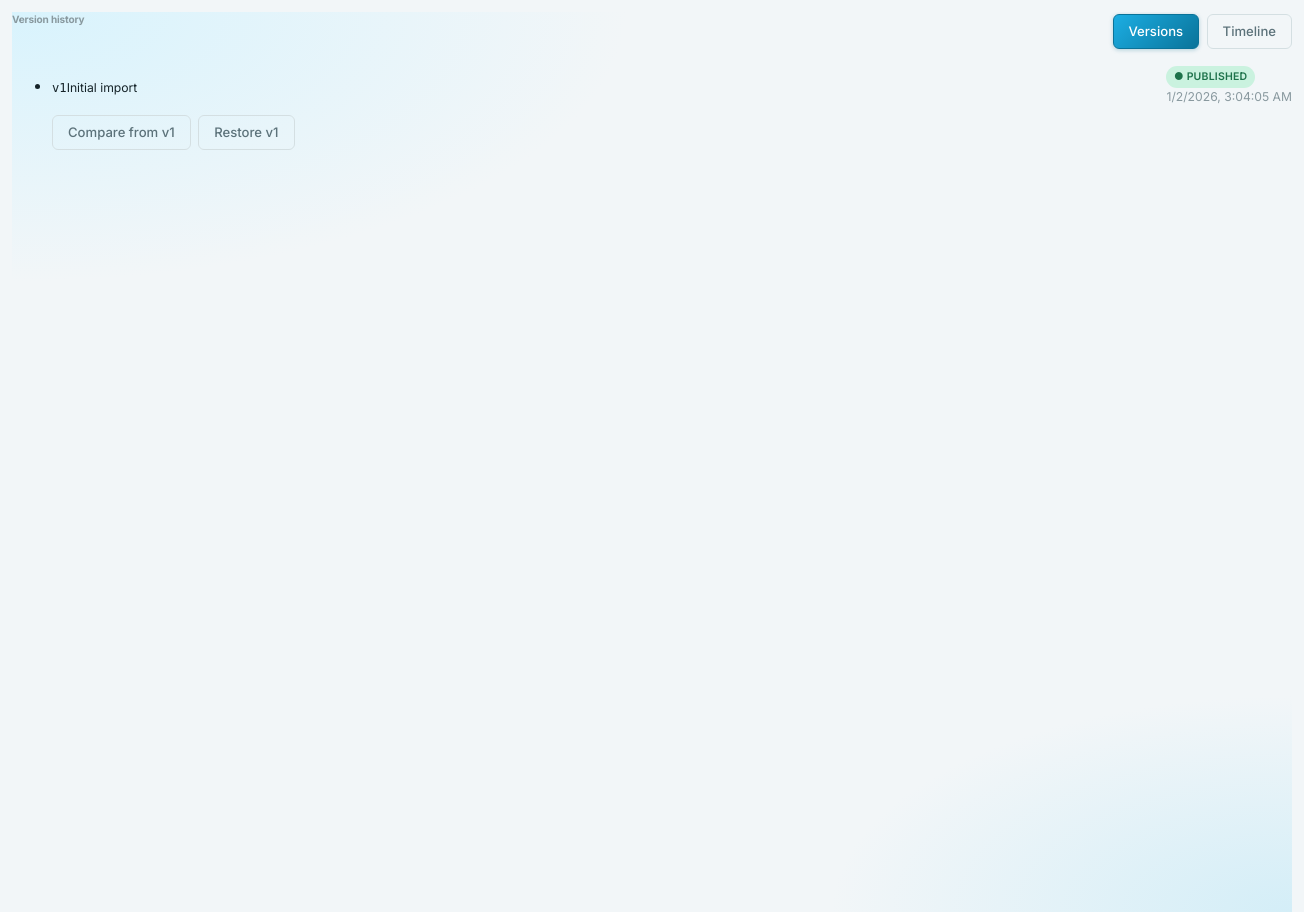
HistoryTab restore › surfaces a restore failure instead of silently doing nothing
Click the button with test id "history-restore-1" at (246, 132), box 198,115 -> 294,150
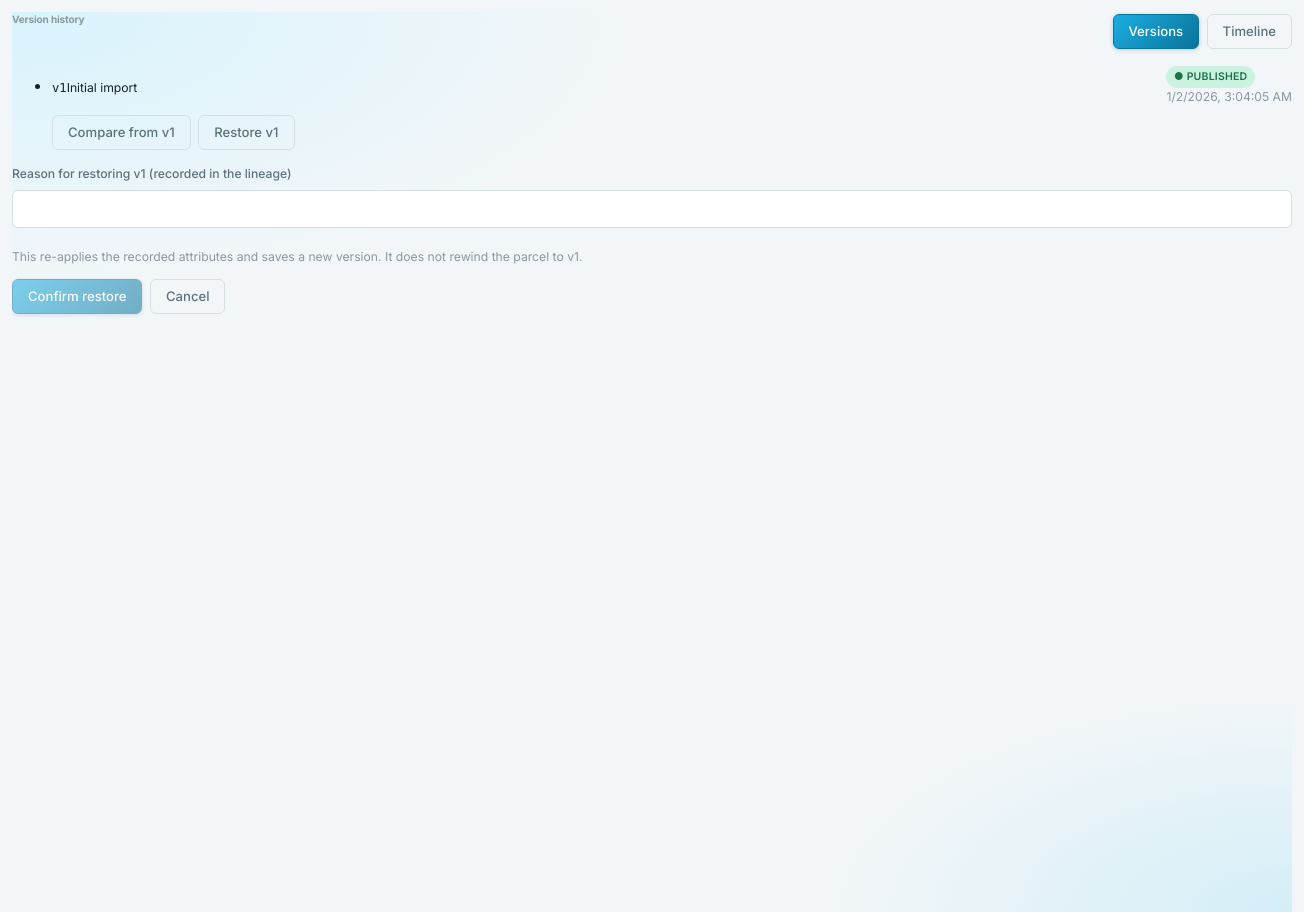
Type "because" into the field with test id "history-restore-reason" at (652, 209), box 12,190 -> 1292,228
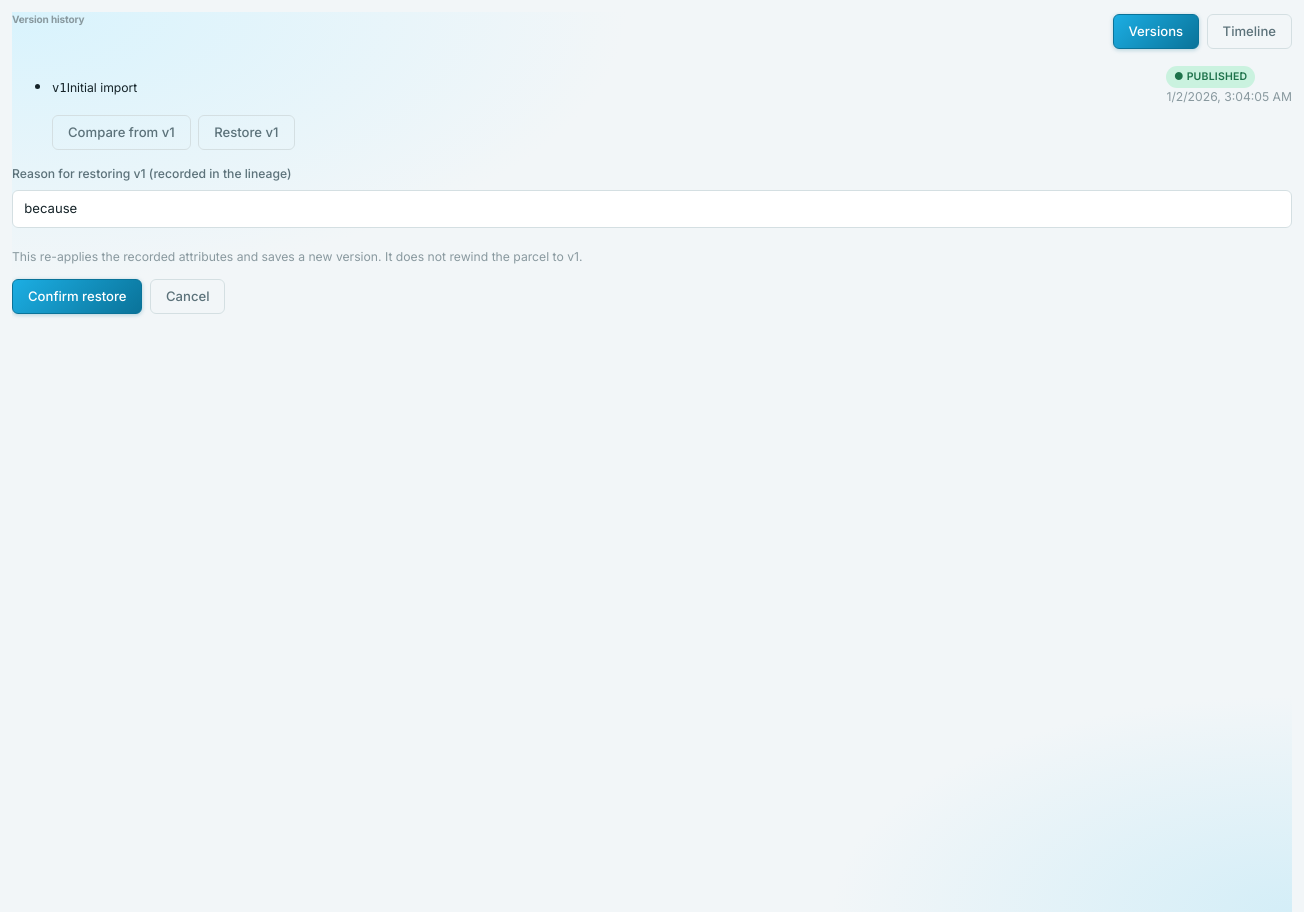
Click the button with test id "history-restore-confirm" at (77, 296), box 12,279 -> 142,314
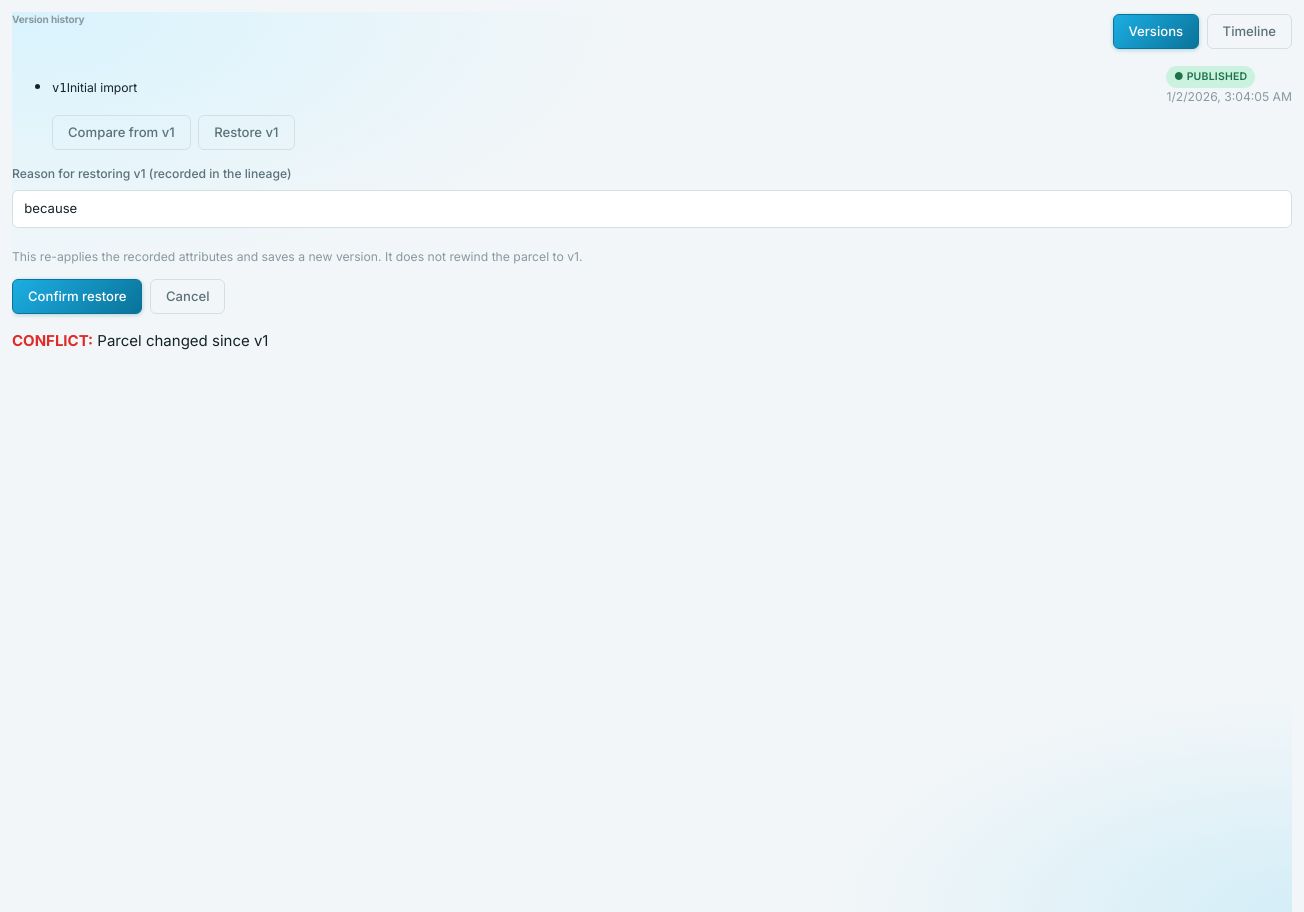
expect the message with test id "history-error" shows "Parcel changed since v1": met, box 97,331 -> 268,350
